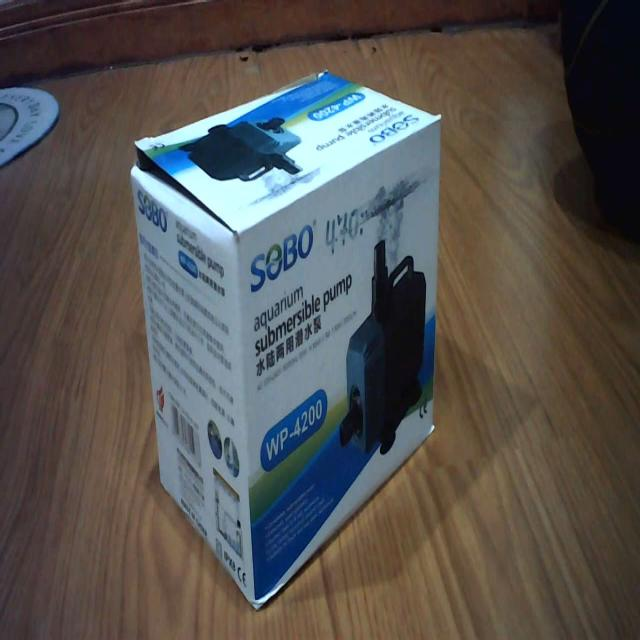SOBO_WP_4200: (125, 58, 450, 614)
